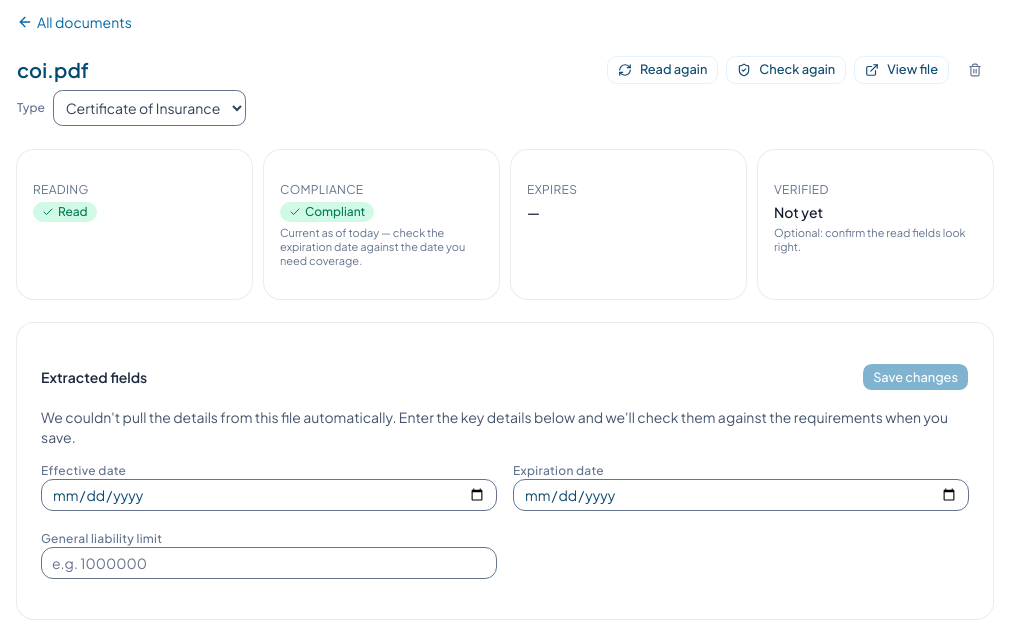
DocumentDetailPage — the in-progress 409 reconciles the page it lands on (#365 / ADR 0050) › refetches the detail on document.extraction_in_progress, so the page stops claiming the read finished
Expected: the element with test id "extraction-status" reads "Read", [58,204,88,219]
What coordinates should you click on to do the following:
click the button "Read again"
I would click on:
 (663, 70)
Its box is [607,56,718,84].
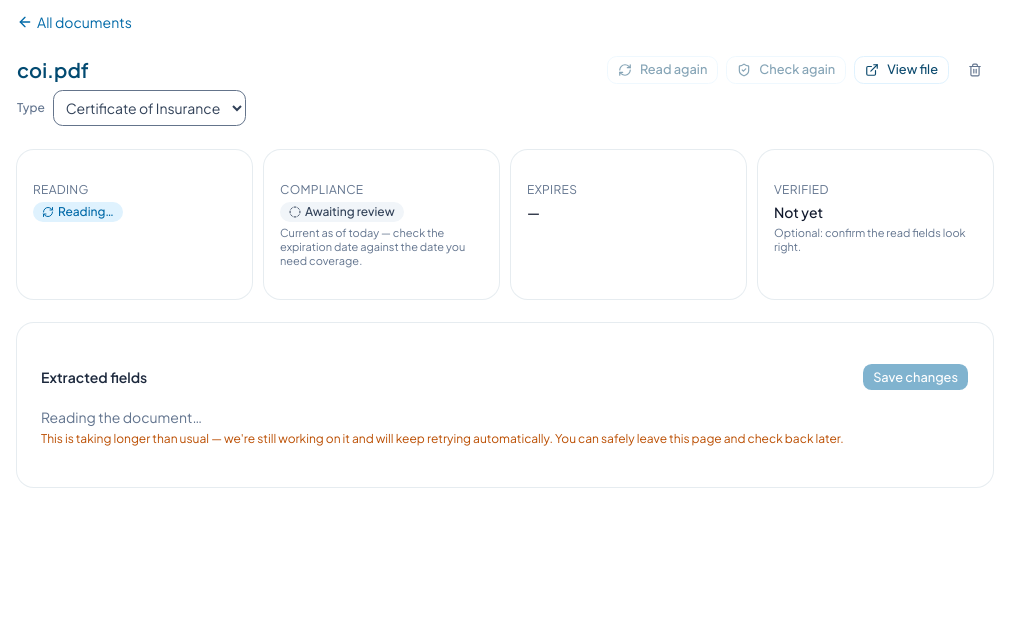
Expected: the element with test id "extraction-status" reads "Reading…", [58,204,114,219]
Expected: the button "Read again" is disabled, [607,56,718,84]
